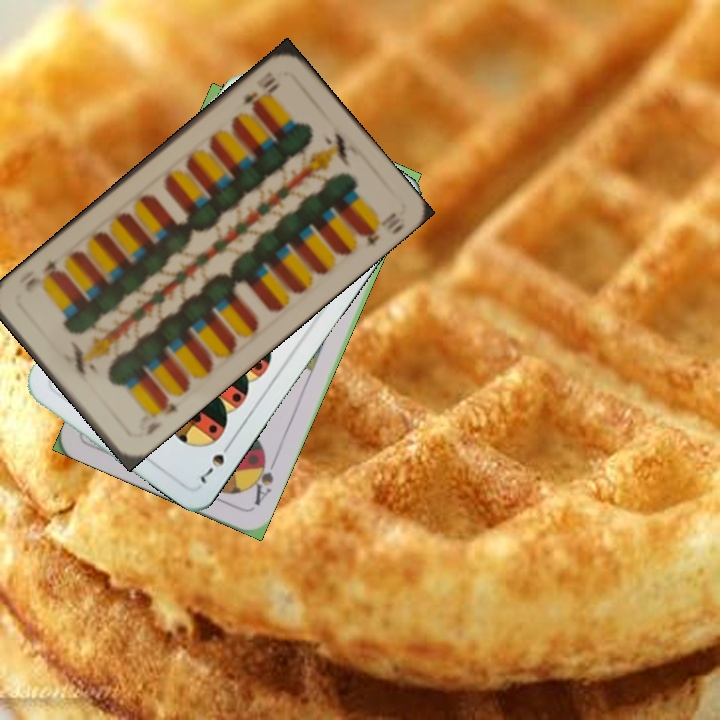E10: (141, 393, 181, 439), (238, 71, 282, 112)
S7: (196, 437, 236, 487)
SA: (246, 450, 280, 509)
